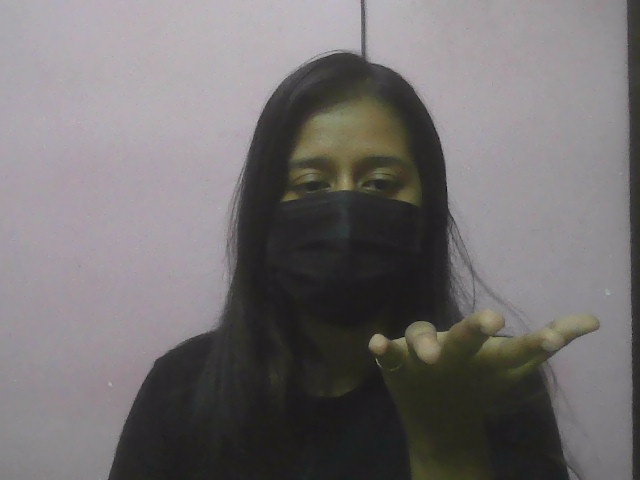Morning: (342, 297, 615, 407)
